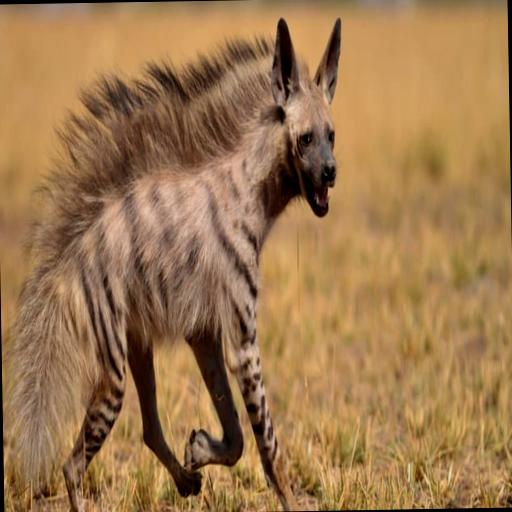hyenas: (0, 16, 401, 504)
